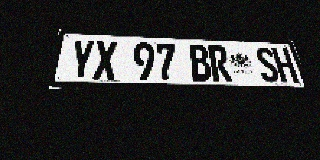7: (155, 43, 178, 81)
9: (134, 42, 156, 81)
B: (188, 44, 213, 81)
H: (271, 48, 299, 83)
R: (207, 45, 233, 82)
S: (254, 47, 281, 82)
X: (93, 40, 117, 80)
Y: (68, 39, 95, 80)
